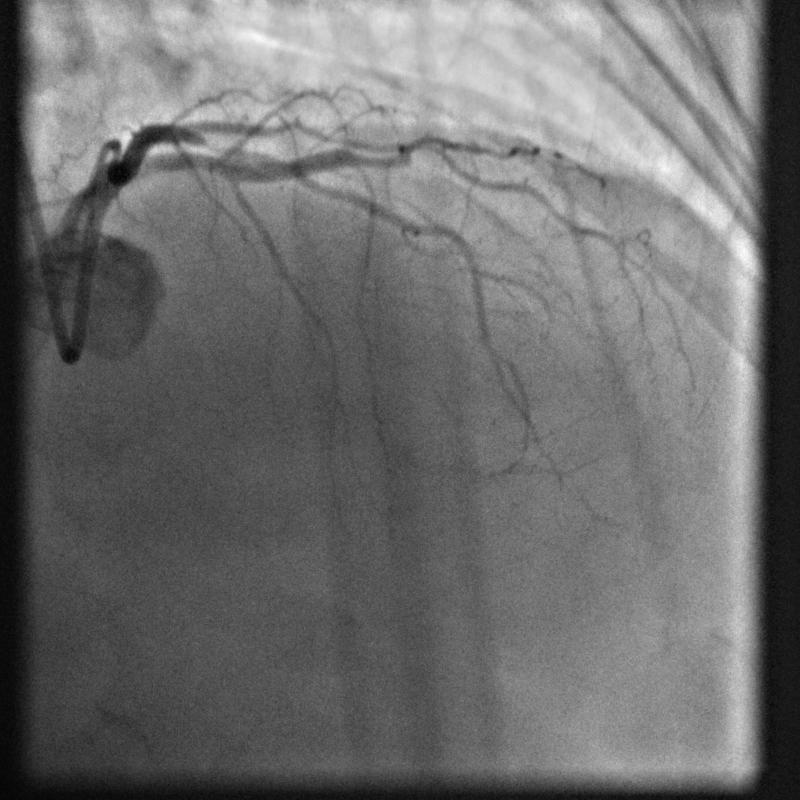Stenosis: (195, 135, 277, 164)
